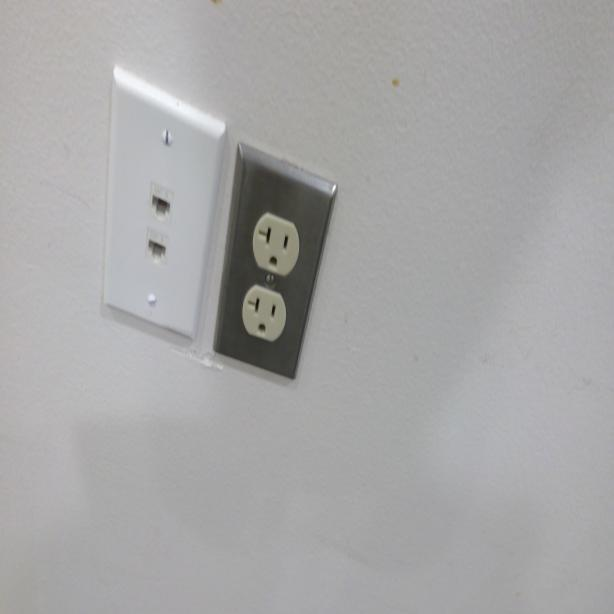typeb: (256, 212, 296, 275), (246, 284, 280, 342)
